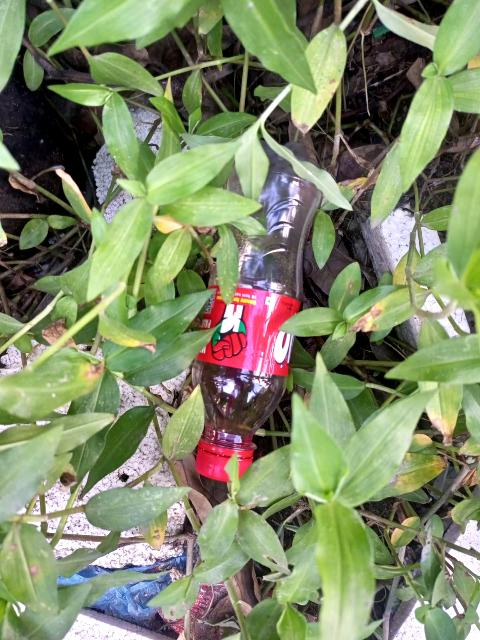bottle: (135, 101, 360, 502)
